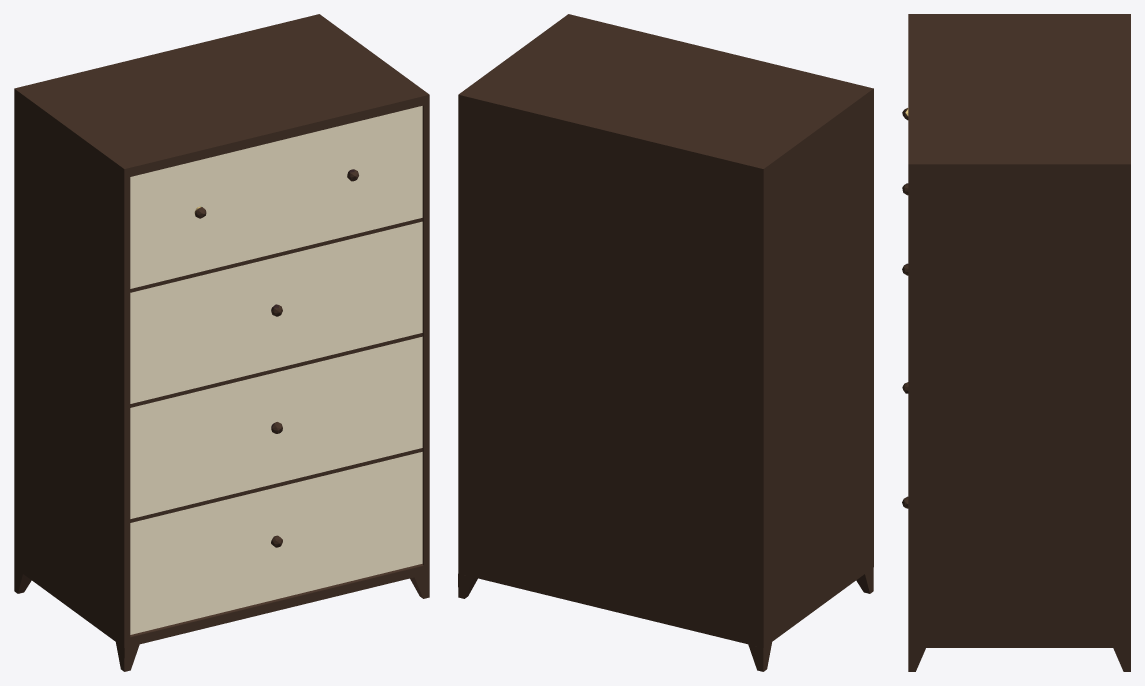
Rendered from Accesories_Dresser.001.glb.
The picture shows the model from 3 angles, left to right: view 1: azimuth 30°, elevation 25°; view 2: azimuth 150°, elevation 25°; view 3: azimuth 270°, elevation 25°; orthographic projection.
Visible parts, largest first — view 1: Accesories_Dresser.001; view 2: Accesories_Dresser.001; view 3: Accesories_Dresser.001.
Boxes of the visible parts, bbox=[...] form: Accesories_Dresser.001: bbox=[14, 14, 429, 671]; Accesories_Dresser.001: bbox=[458, 14, 873, 671]; Accesories_Dresser.001: bbox=[902, 14, 1130, 671].
Size of the model in its own units: 0.7665 by 1.21 by 0.4929.
1 material, 1 textured.
